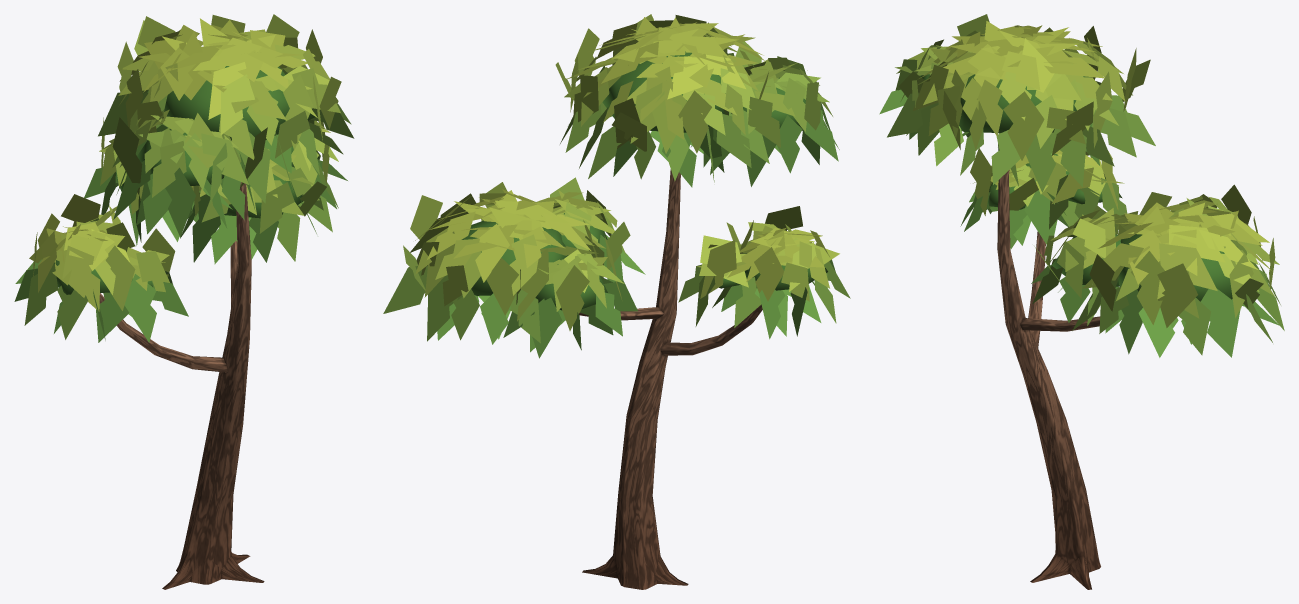
Rendered from tree_young_1.glb.
The picture shows the model from 3 angles, left to right: view 1: azimuth 30°, elevation 25°; view 2: azimuth 150°, elevation 25°; view 3: azimuth 270°, elevation 25°; orthographic projection. The views are drawn at different scales.
Visible parts, largest first — view 1: tree_young_1; view 2: tree_young_1; view 3: tree_young_1.
Part boxes in pixels (box(x1,y1,x2,y2)): tree_young_1: box(14, 14, 354, 589); tree_young_1: box(383, 14, 850, 589); tree_young_1: box(879, 14, 1284, 589).
Size of the model in its own units: 4 by 5.6 by 3.9.
Materials: 2 (2 with a texture image).
